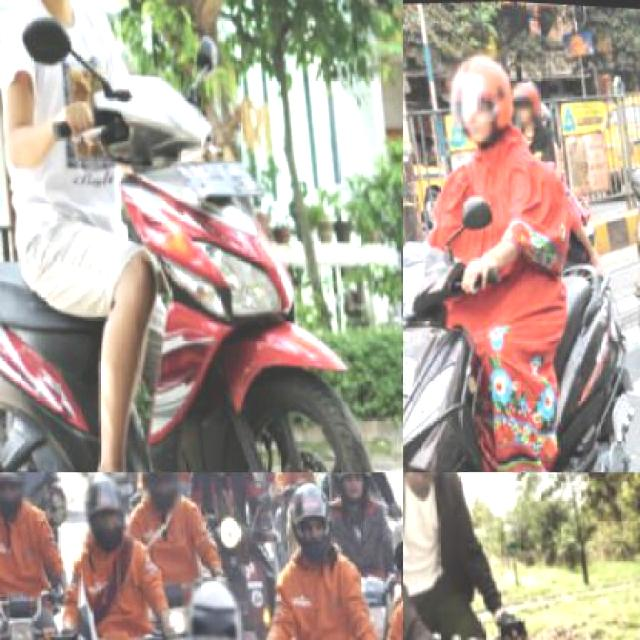With Helmet: (446, 42, 516, 147), (277, 472, 340, 566), (178, 570, 252, 638), (75, 472, 134, 552), (139, 472, 186, 516), (0, 472, 37, 523), (511, 77, 544, 126), (329, 472, 377, 505)
